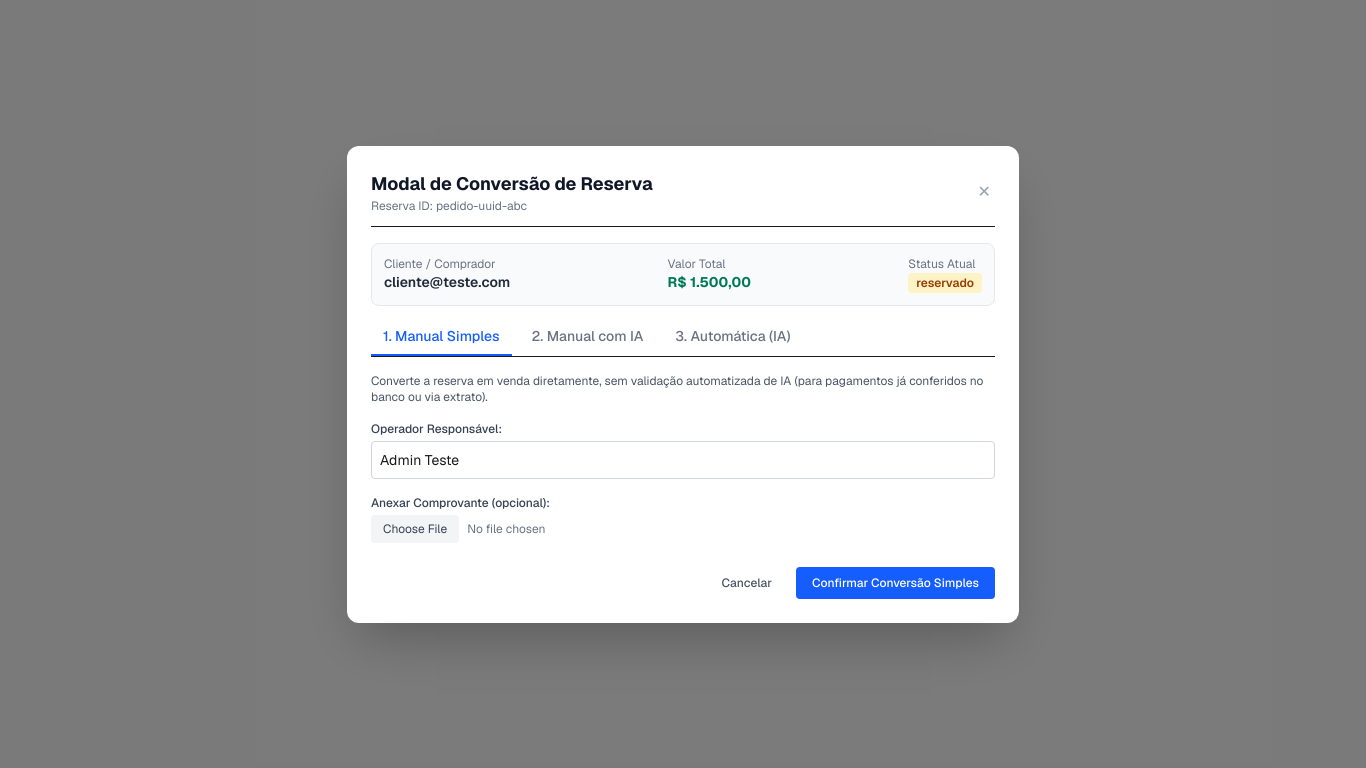
Scenario: ModalConversaoPedido › Modo 1 — Manual Simples › exibe erro quando converterManualSimples rejeita
The width and height of the screenshot is (1366, 768).
Click the button "Confirmar Conversão Simples" at (896, 582), box 796,566 -> 995,598
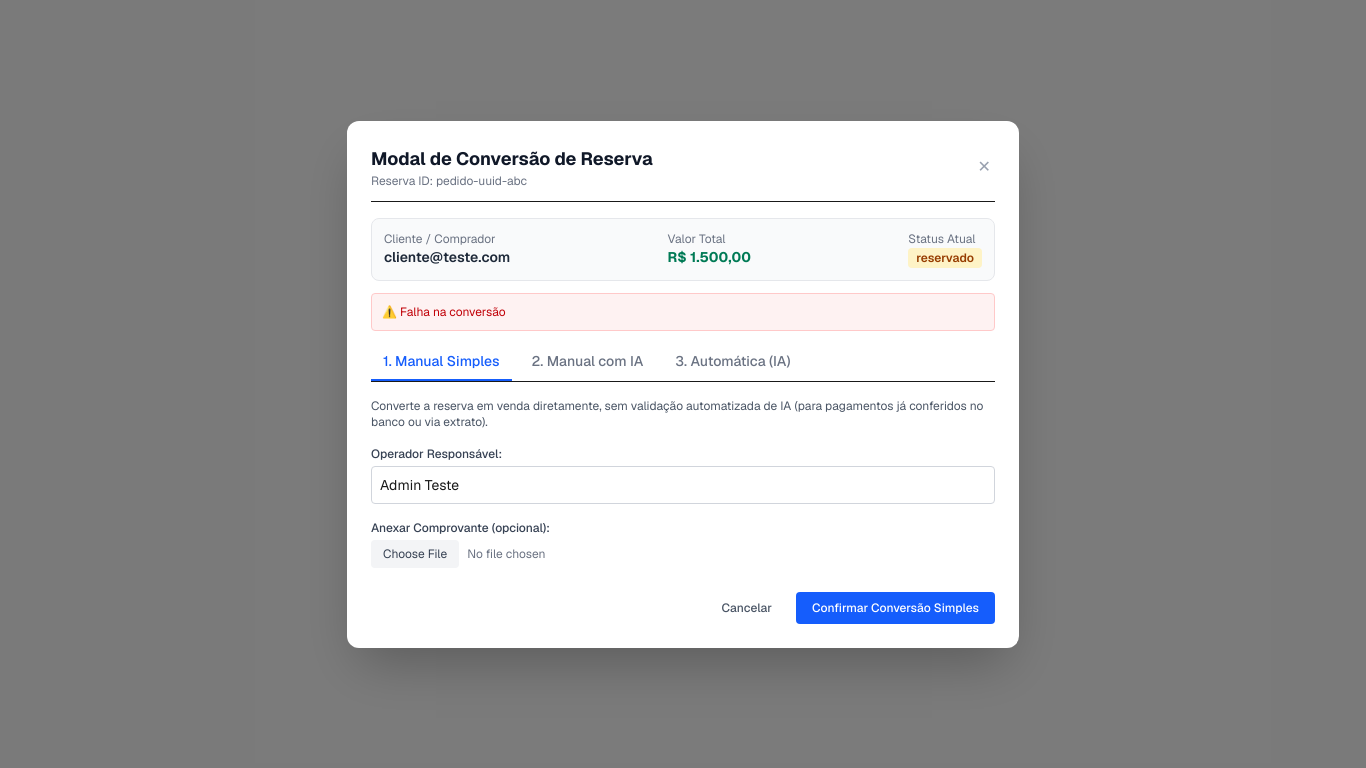
Check: the text "⚠️ Falha na conversão" is shown, box 371,292 -> 995,330
